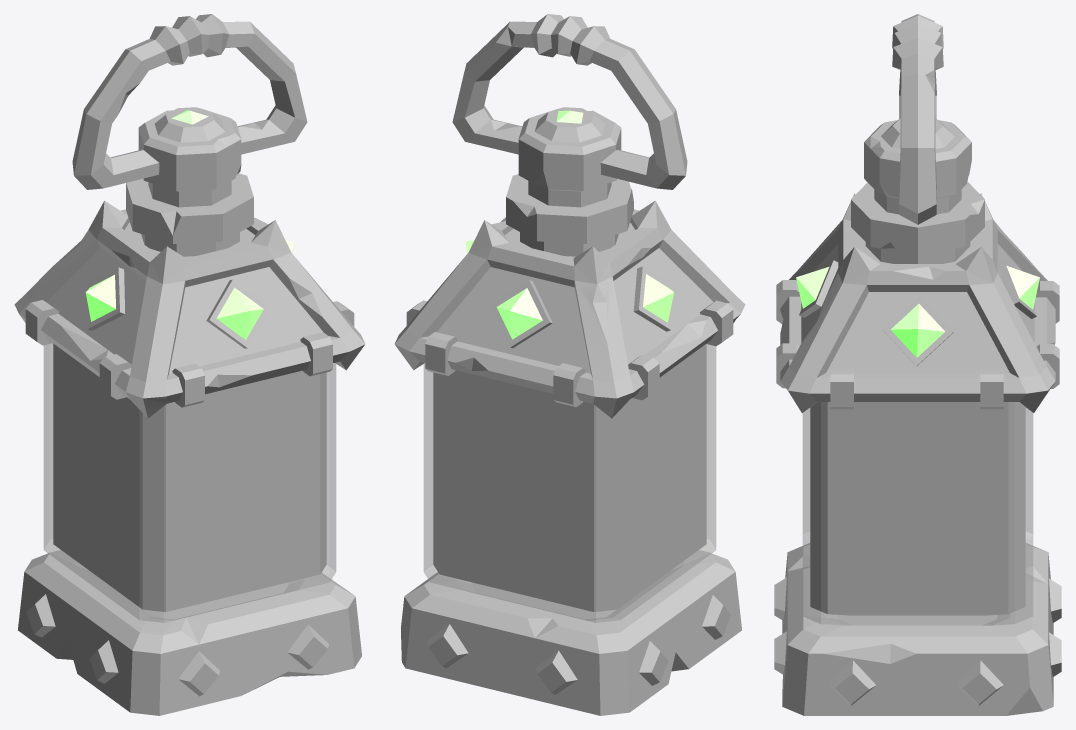
Rendered from SM_Prop_Bottle_03.fbx.
The picture shows the model from 3 angles, left to right: view 1: azimuth 30°, elevation 25°; view 2: azimuth 150°, elevation 25°; view 3: azimuth 270°, elevation 25°; orthographic projection.
Parts seen in each view (by area): view 1: SM_Prop_Bottle_03, SM_Prop_Bottle_03_Glass, SM_Prop_Bottle_03_Liquid, SM_Prop_Bottle_03_Handle; view 2: SM_Prop_Bottle_03, SM_Prop_Bottle_03_Glass, SM_Prop_Bottle_03_Liquid, SM_Prop_Bottle_03_Handle; view 3: SM_Prop_Bottle_03, SM_Prop_Bottle_03_Glass, SM_Prop_Bottle_03_Liquid, SM_Prop_Bottle_03_Handle.
Boxes of the visible parts, x1,y1,x2,y2 form: SM_Prop_Bottle_03: (14, 107, 365, 715); SM_Prop_Bottle_03_Glass: (43, 343, 336, 622); SM_Prop_Bottle_03_Liquid: (53, 343, 326, 612); SM_Prop_Bottle_03_Handle: (72, 14, 307, 189); SM_Prop_Bottle_03: (394, 107, 745, 715); SM_Prop_Bottle_03_Glass: (423, 344, 716, 622); SM_Prop_Bottle_03_Liquid: (433, 344, 706, 612); SM_Prop_Bottle_03_Handle: (452, 14, 687, 189); SM_Prop_Bottle_03: (774, 118, 1061, 715); SM_Prop_Bottle_03_Glass: (802, 402, 1033, 625); SM_Prop_Bottle_03_Liquid: (810, 402, 1025, 615); SM_Prop_Bottle_03_Handle: (892, 14, 943, 224).
Bounding box in the file's own units: 25.42 × 62.06 × 25.42.
